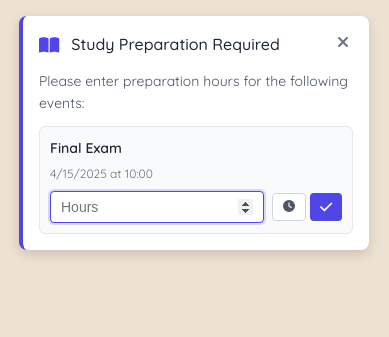
Test case: PreparationPrompt Component › shows error when trying to save without entering hours
# Click save button without entering hours
Click the button with test id "save-button-123".
click(326, 207)  # box [310, 193, 342, 221]
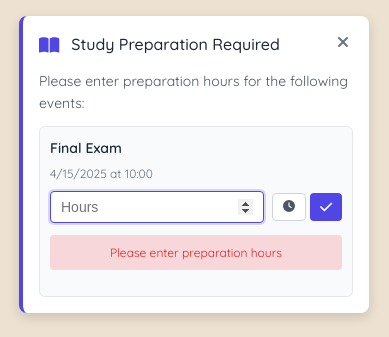
Result: the text "Please enter preparation hours" is shown at [50, 235, 342, 270]
Result: the text with test id "error-message-123" reads "Please enter preparation hours" at [110, 245, 282, 260]
